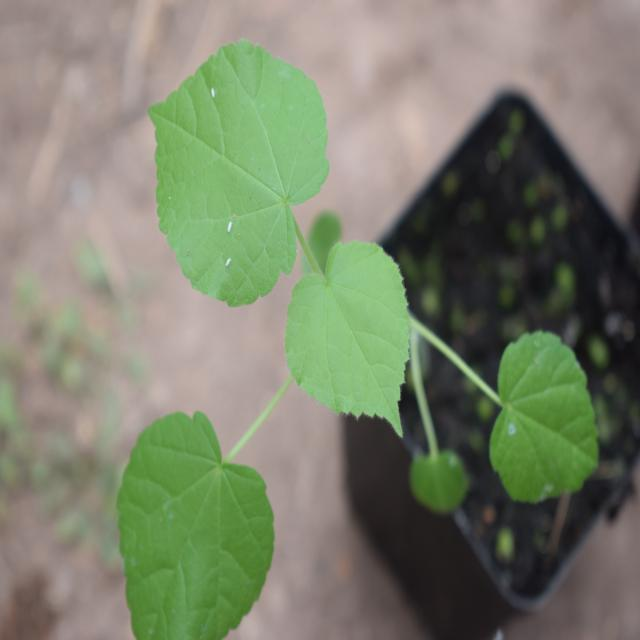abutilon theophrasti: (94, 27, 536, 609)
